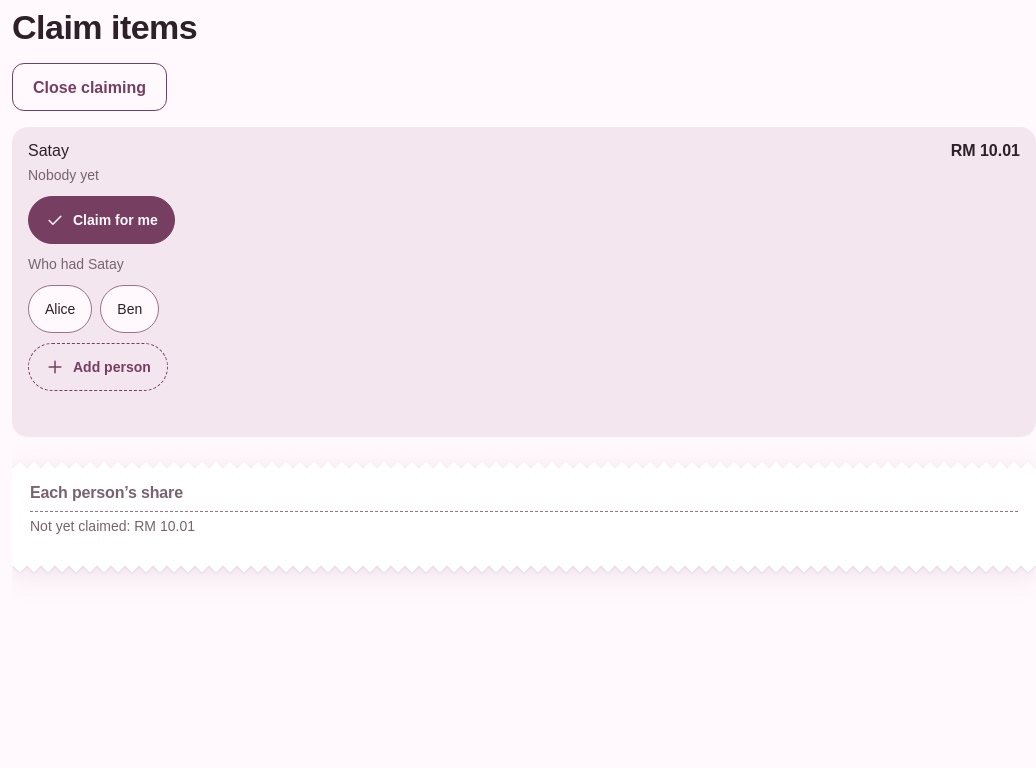
items with a quantity (claim by unit) › adding a person who was not invited › lets a manager add someone from an item, then picks them for that item
Click the button "Add person": coordinates (98, 367) [28,343,168,391]
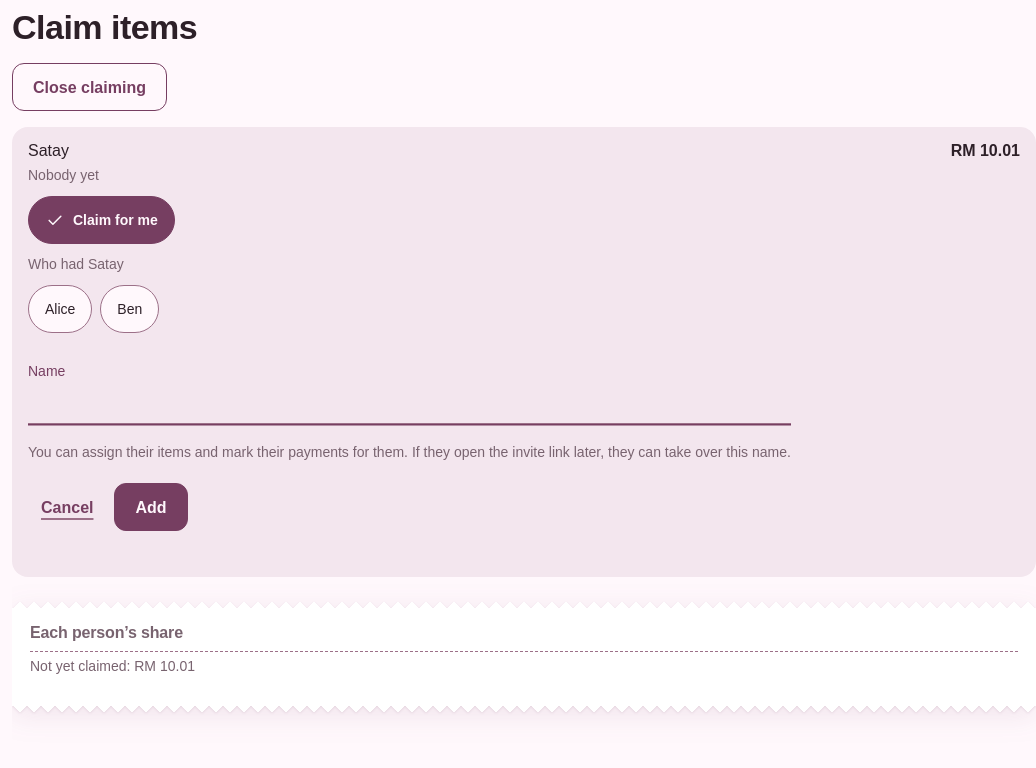
In the field labelled "Name": coordinates (409, 404) [28,384,791,424], type "  Chen "
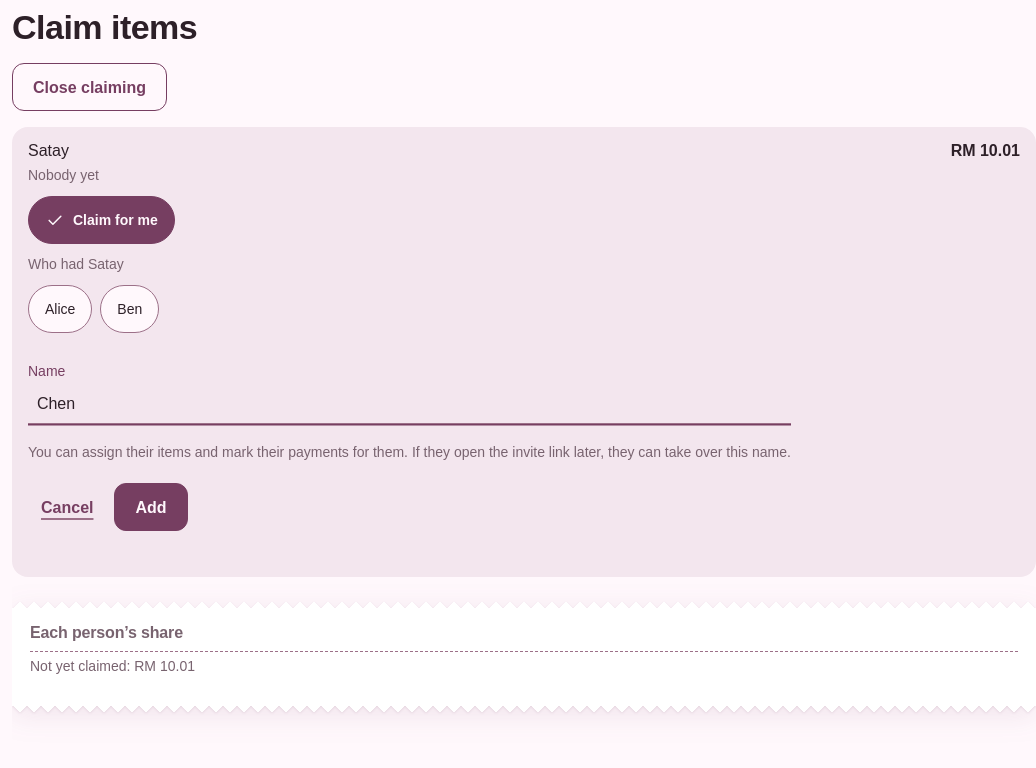
Click the button "Add": coordinates (151, 507) [114,483,188,531]
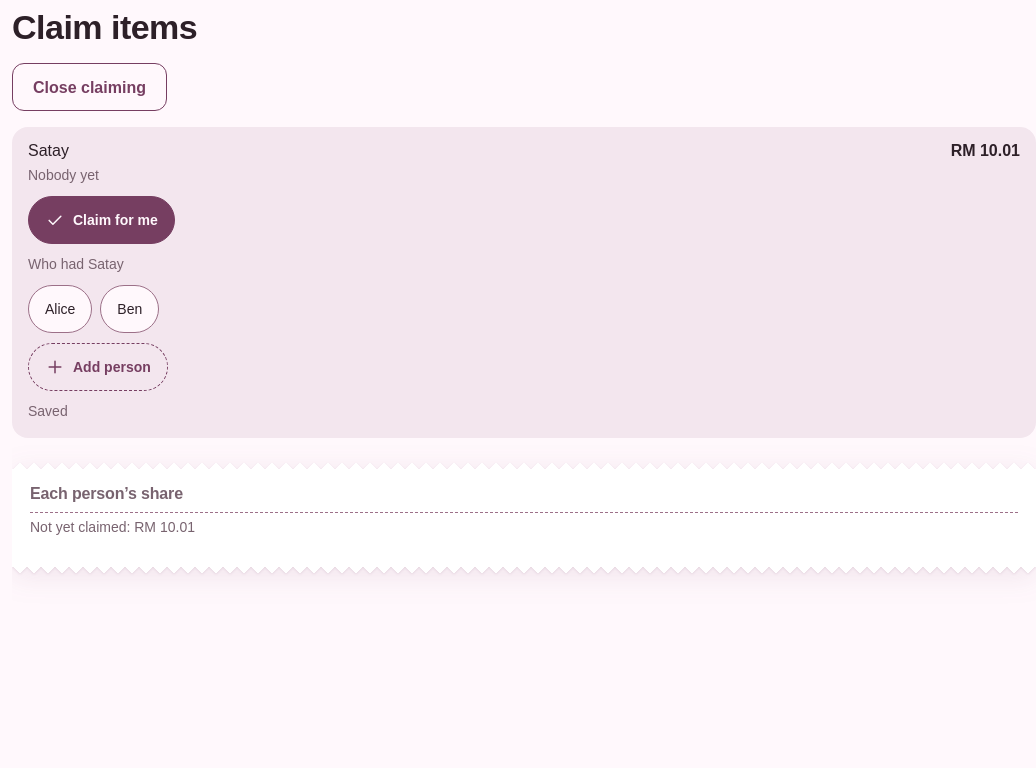
Now the button "Add person" is shown, box [28,343,168,391]
